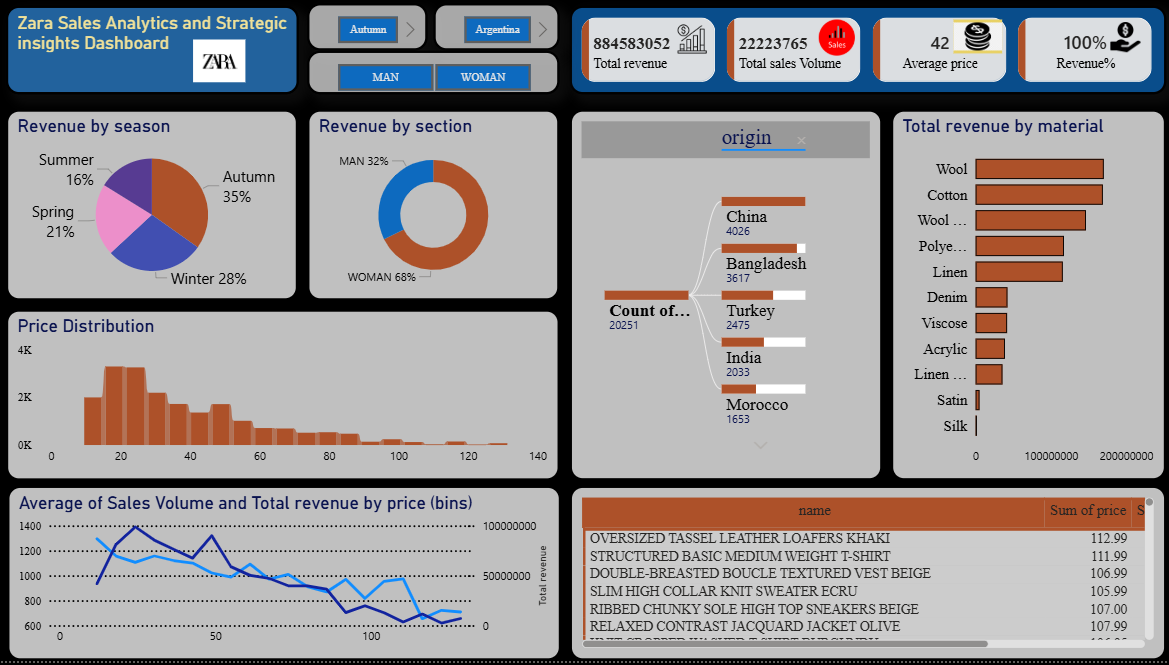

What the dashboard file says about the page in this screenshot:
{"tool":"powerbi","page":{"name":"Zara sales Dashboard","canvas":[1280,720],"ordinal":0},"visuals":[{"type":"cardVisual","fields":{"Data":["Zara_Cleaned_Data.Total revenue","Zara_Cleaned_Data.Total sales Volume","Zara_Cleaned_Data.Average price","Zara_Cleaned_Data.Revenue%"]},"box":[622.5,9.5,646.9,96.3],"z":0},{"type":"pieChart","title":"Revenue by season","fields":{"Category":["Zara_Cleaned_Data.season"],"Y":["Zara_Cleaned_Data.Total revenue"]},"box":[11,122.1,317,207.2],"z":1000},{"type":"donutChart","title":"Revenue by section","fields":{"Y":["Zara_Cleaned_Data.Total revenue"],"Category":["Zara_Cleaned_Data.section"]},"box":[337.7,122.1,274,207.5],"z":2000},{"type":"columnChart","title":"Price Distribution","fields":{"Y":["CountNonNull(Zara_Cleaned_Data.Product ID)"],"Category":["Zara_Cleaned_Data.price (bins)"]},"box":[11,338.9,601,185.2],"z":3000},{"type":"barChart","fields":{"Y":["Zara_Cleaned_Data.Total revenue"],"Category":["Zara_Cleaned_Data.material"]},"box":[971.1,122.1,298.4,402.8],"z":4000},{"type":"decompositionTreeVisual","fields":{"ExplainBy":["Zara_Cleaned_Data.origin"],"Analyze":["CountNonNull(Zara_Cleaned_Data.Product ID)"]},"box":[623,122.1,338.9,402.1],"z":5000},{"type":"tableEx","fields":{"Values":["Zara_Cleaned_Data.name","Sum(Zara_Cleaned_Data.price)","Sum(Zara_Cleaned_Data.Sales Volume)","Zara_Cleaned_Data.Total revenue"]},"box":[622.5,530.3,646.9,189.9],"z":6000},{"type":"textbox","title":"Zara Sales Analytics and Strategic insights Dashboard","box":[10.8,9.5,317.4,96.3],"z":7000},{"type":"slicer","fields":{"Values":["Zara_Cleaned_Data.season"]},"box":[337.7,6.8,130.2,51.5],"z":8000},{"type":"slicer","fields":{"Values":["Zara_Cleaned_Data.origin"]},"box":[474.7,6.8,137,51.5],"z":9000},{"type":"slicer","fields":{"Values":["Zara_Cleaned_Data.section"]},"box":[337.7,58.3,274,47.5],"z":10000},{"type":"image","box":[185.8,46.1,112.6,46.1],"z":11000},{"type":"image","box":[733.7,27.1,43.4,36.6],"z":12000},{"type":"image","box":[1038.9,24.4,52.9,36.6],"z":13000},{"type":"image","box":[1200.3,27.1,50.2,32.5],"z":14000},{"type":"image","box":[877.5,24.4,69.2,39.3],"z":15000},{"type":"lineChart","fields":{"Category":["Zara_Cleaned_Data.price (bins)"],"Y2":["Zara_Cleaned_Data.Total revenue"],"Y":["Avg(Zara_Cleaned_Data.Sales Volume)"]},"box":[12.2,530.3,600.8,189.9],"z":16000}]}

Visuals, with their boxes in screenshot pixels (x1, y1, x2, y2), scaled from the page's 1280x720 canvas onto the 1169x665 screenshot:
cardVisual - Zara_Cleaned_Data.Total revenue x Zara_Cleaned_Data.Total sales Volume: [x1=569, y1=9, x2=1159, y2=98]
"Revenue by season" pieChart: [x1=10, y1=113, x2=300, y2=304]
"Revenue by section" donutChart: [x1=308, y1=113, x2=559, y2=304]
"Price Distribution" columnChart: [x1=10, y1=313, x2=559, y2=484]
barChart - Zara_Cleaned_Data.Total revenue x Zara_Cleaned_Data.material: [x1=887, y1=113, x2=1159, y2=485]
decompositionTreeVisual - Zara_Cleaned_Data.origin x CountNonNull(Zara_Cleaned_Data.Product ID): [x1=569, y1=113, x2=878, y2=484]
tableEx - Zara_Cleaned_Data.name x Sum(Zara_Cleaned_Data.price): [x1=569, y1=490, x2=1159, y2=664]
"Zara Sales Analytics and Strategic insights Dashboard" textbox: [x1=10, y1=9, x2=300, y2=98]
slicer - Zara_Cleaned_Data.season: [x1=308, y1=6, x2=427, y2=54]
slicer - Zara_Cleaned_Data.origin: [x1=434, y1=6, x2=559, y2=54]
slicer - Zara_Cleaned_Data.section: [x1=308, y1=54, x2=559, y2=98]
image: [x1=170, y1=43, x2=273, y2=85]
image: [x1=670, y1=25, x2=710, y2=59]
image: [x1=949, y1=23, x2=997, y2=56]
image: [x1=1096, y1=25, x2=1142, y2=55]
image: [x1=801, y1=23, x2=865, y2=59]
lineChart - Zara_Cleaned_Data.price (bins) x Zara_Cleaned_Data.Total revenue: [x1=11, y1=490, x2=560, y2=664]
